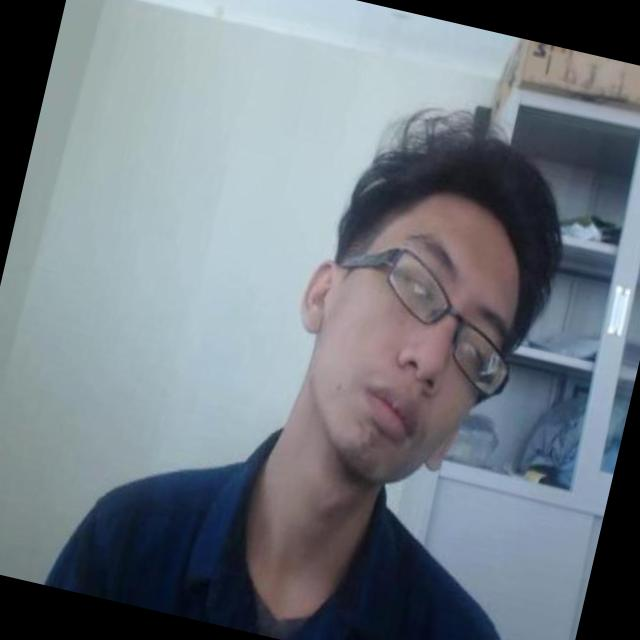bareface: (220, 111, 640, 555)
